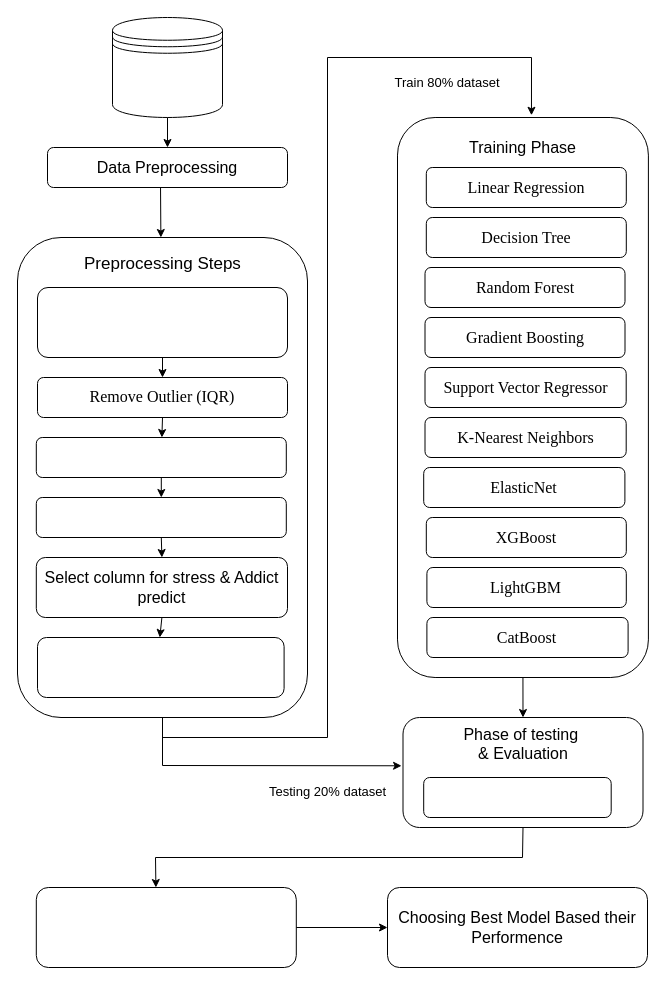
This 666x985 diagram has some shape labels left out. The shapes that lost their labels are listed below. From the top down, each one's centre as x and y in pixels, then its label:
At point (167, 67): "Data set".
At point (162, 322): "Handling Null Values (Fill with mean/median/mode)".
At point (160, 457): "Drop duplicate Rows".
At point (160, 517): "Drop Unnecessary column".
At point (160, 667): "Splitting Data (Training 80%, Testing 20%)".
At point (517, 797): "Testing Of Models".
At point (165, 927): "Result Analysis After Prediction".
